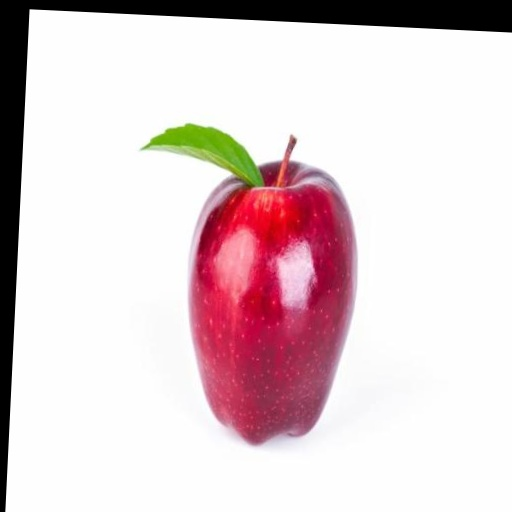fruit: (189, 144, 357, 444)
